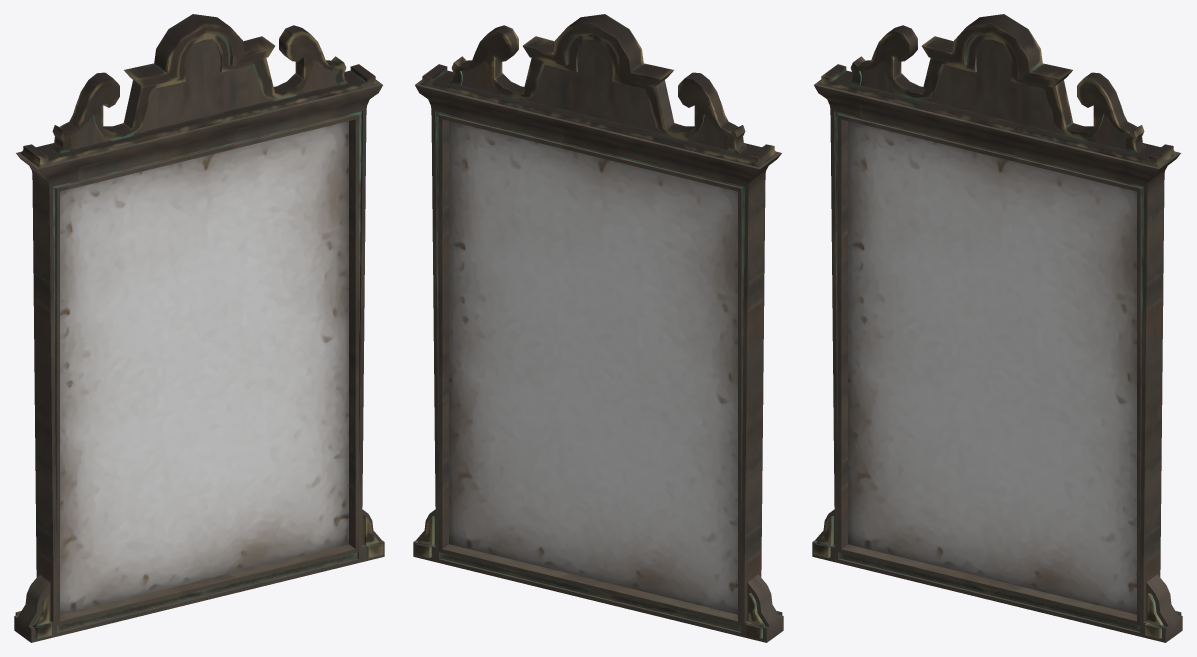
Rendered from SM_Mirror.fbx.
The picture shows the model from 3 angles, left to right: view 1: azimuth 30°, elevation 25°; view 2: azimuth 150°, elevation 25°; view 3: azimuth 330°, elevation 25°; orthographic projection.
Parts seen in each view (by area): view 1: Mirror_Mirror_Export.001, MirrorFrame_Mirror_Export.001; view 2: Mirror_Mirror_Export.001, MirrorFrame_Mirror_Export.001; view 3: Mirror_Mirror_Export.001, MirrorFrame_Mirror_Export.001.
Part boxes in pixels (bbox=[...]): Mirror_Mirror_Export.001: bbox=[60, 121, 348, 614]; MirrorFrame_Mirror_Export.001: bbox=[14, 14, 384, 642]; Mirror_Mirror_Export.001: bbox=[449, 121, 737, 614]; MirrorFrame_Mirror_Export.001: bbox=[413, 14, 783, 642]; Mirror_Mirror_Export.001: bbox=[848, 121, 1136, 614]; MirrorFrame_Mirror_Export.001: bbox=[812, 14, 1182, 642].
Bounding box in the file's own units: 156 × 242 × 16.97.
